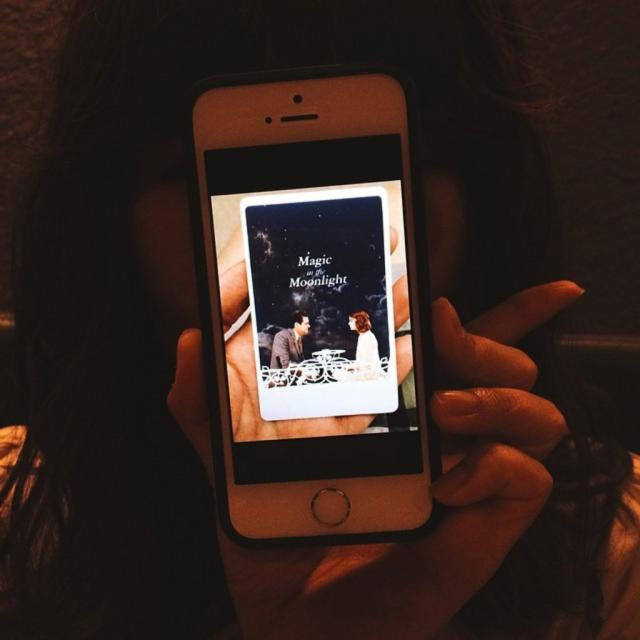Mobile-phone: (186, 66, 447, 546)
